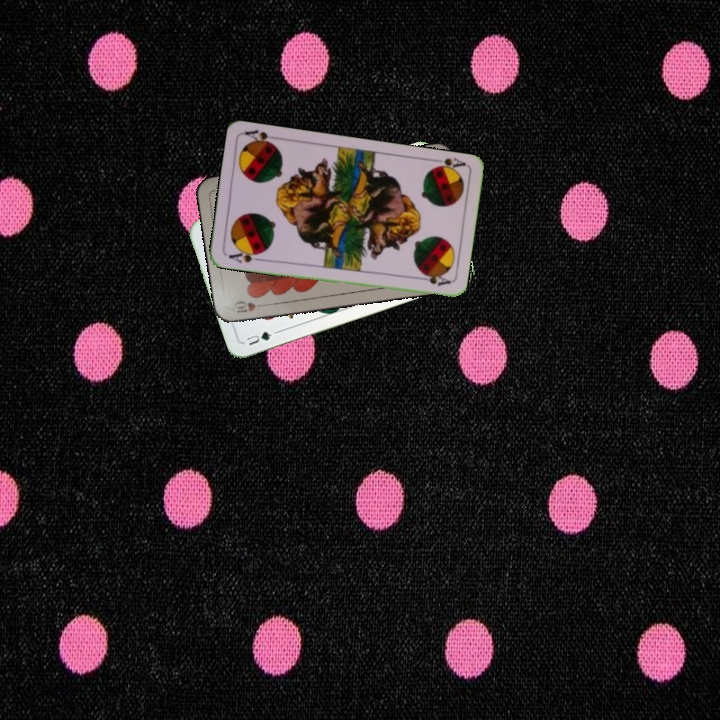GU: (242, 327, 274, 348)
H10: (230, 297, 269, 316)
SA: (427, 154, 468, 176), (225, 245, 265, 266)
